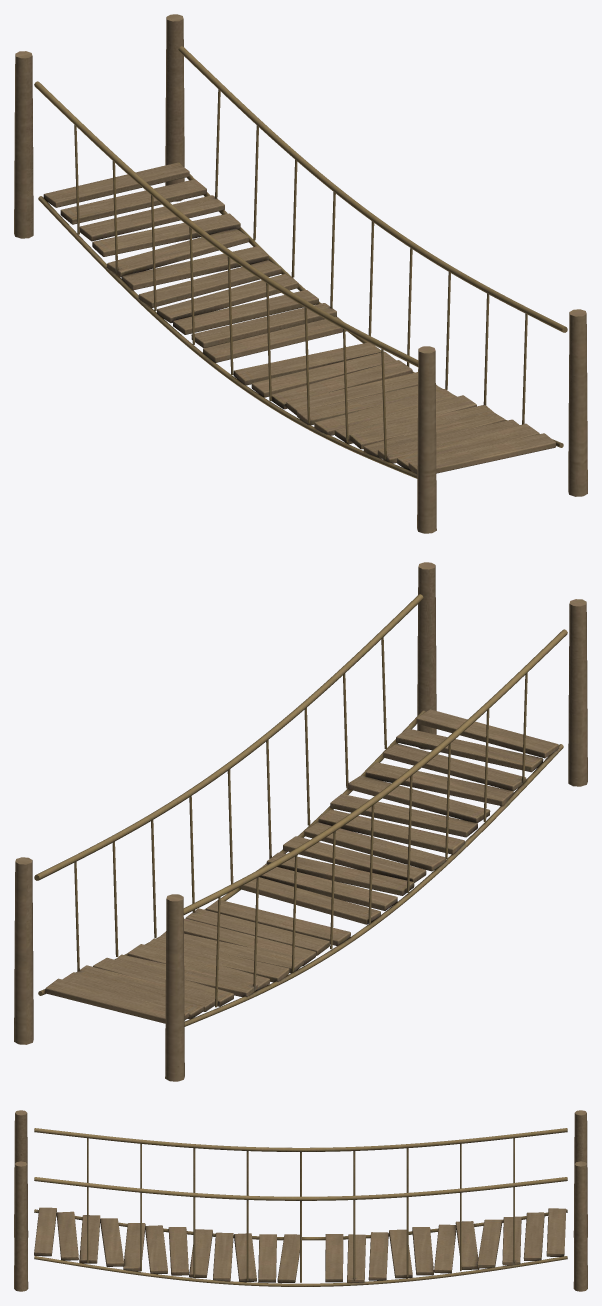
File: canion_ponte_corda.glb
3 renders of one model, top to bottom at view 1: azimuth 30°, elevation 25°; view 2: azimuth 150°, elevation 25°; view 3: azimuth 270°, elevation 25°, orthographic. The views are drawn at different scales.
Parts seen in each view (by area): view 1: canion_ponte_corda_tronco; view 2: canion_ponte_corda_tronco; view 3: canion_ponte_corda_tronco.
Boxes of the visible parts, left/top/right/bottom form: canion_ponte_corda_tronco: left=14, top=14, right=587, bottom=533; canion_ponte_corda_tronco: left=14, top=562, right=587, bottom=1081; canion_ponte_corda_tronco: left=14, top=1110, right=587, bottom=1291.
Bounding box in the file's own units: 1.52 × 1.56 × 6.46.
Materials: 1 (1 with a texture image).
